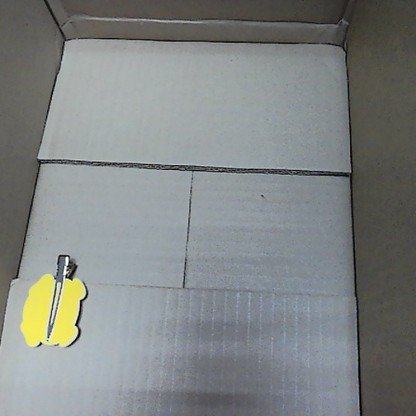dogclip: (19, 252, 86, 348)
